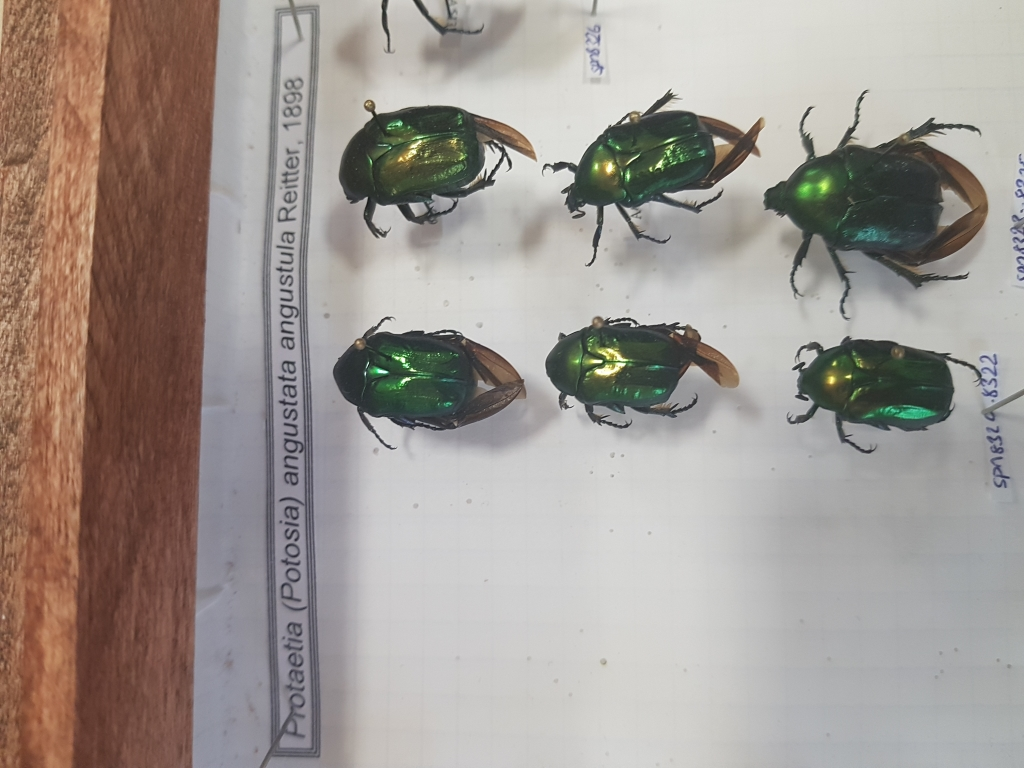Protaetia_angustata_angustata: (771, 87, 999, 310), (546, 86, 769, 259), (334, 97, 540, 255), (331, 308, 536, 457), (773, 320, 989, 448), (542, 308, 748, 432)
